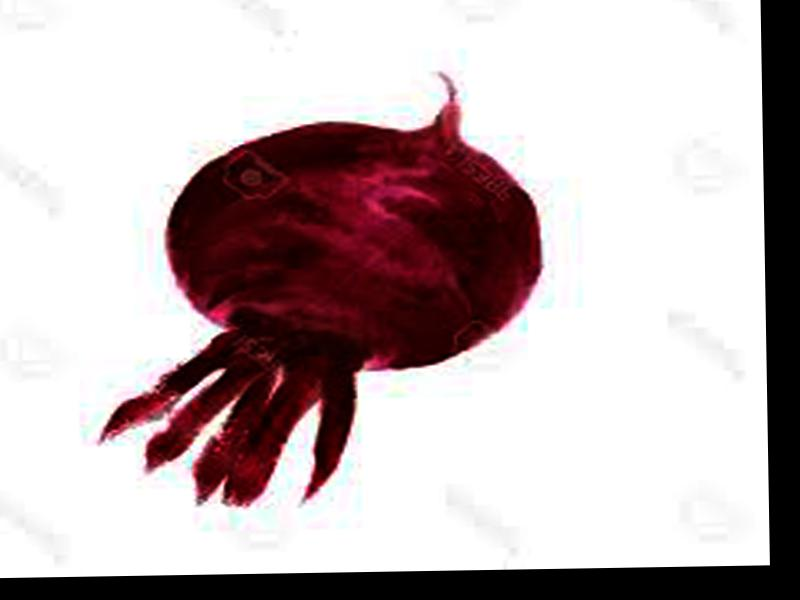Beet: (95, 69, 548, 508)
